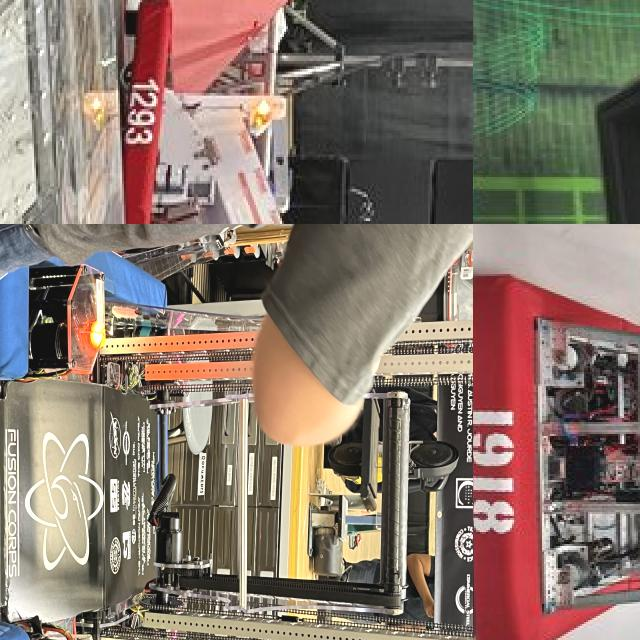FRC-Robots: (0, 226, 473, 640), (473, 237, 640, 640), (100, 0, 382, 224), (473, 0, 640, 224)
